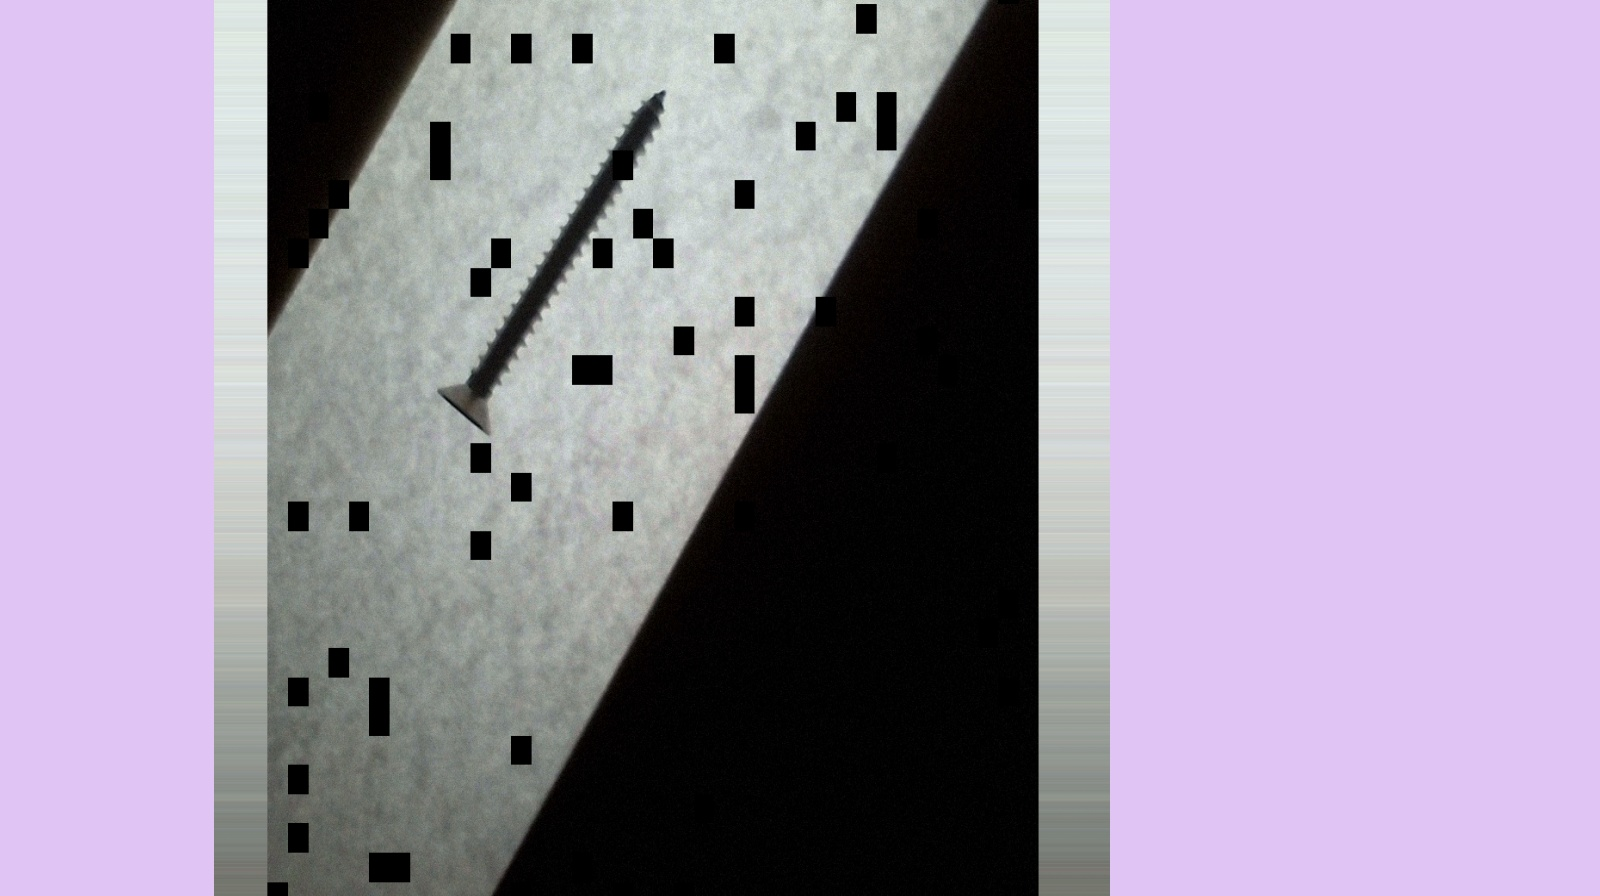S002: (425, 71, 686, 443)
